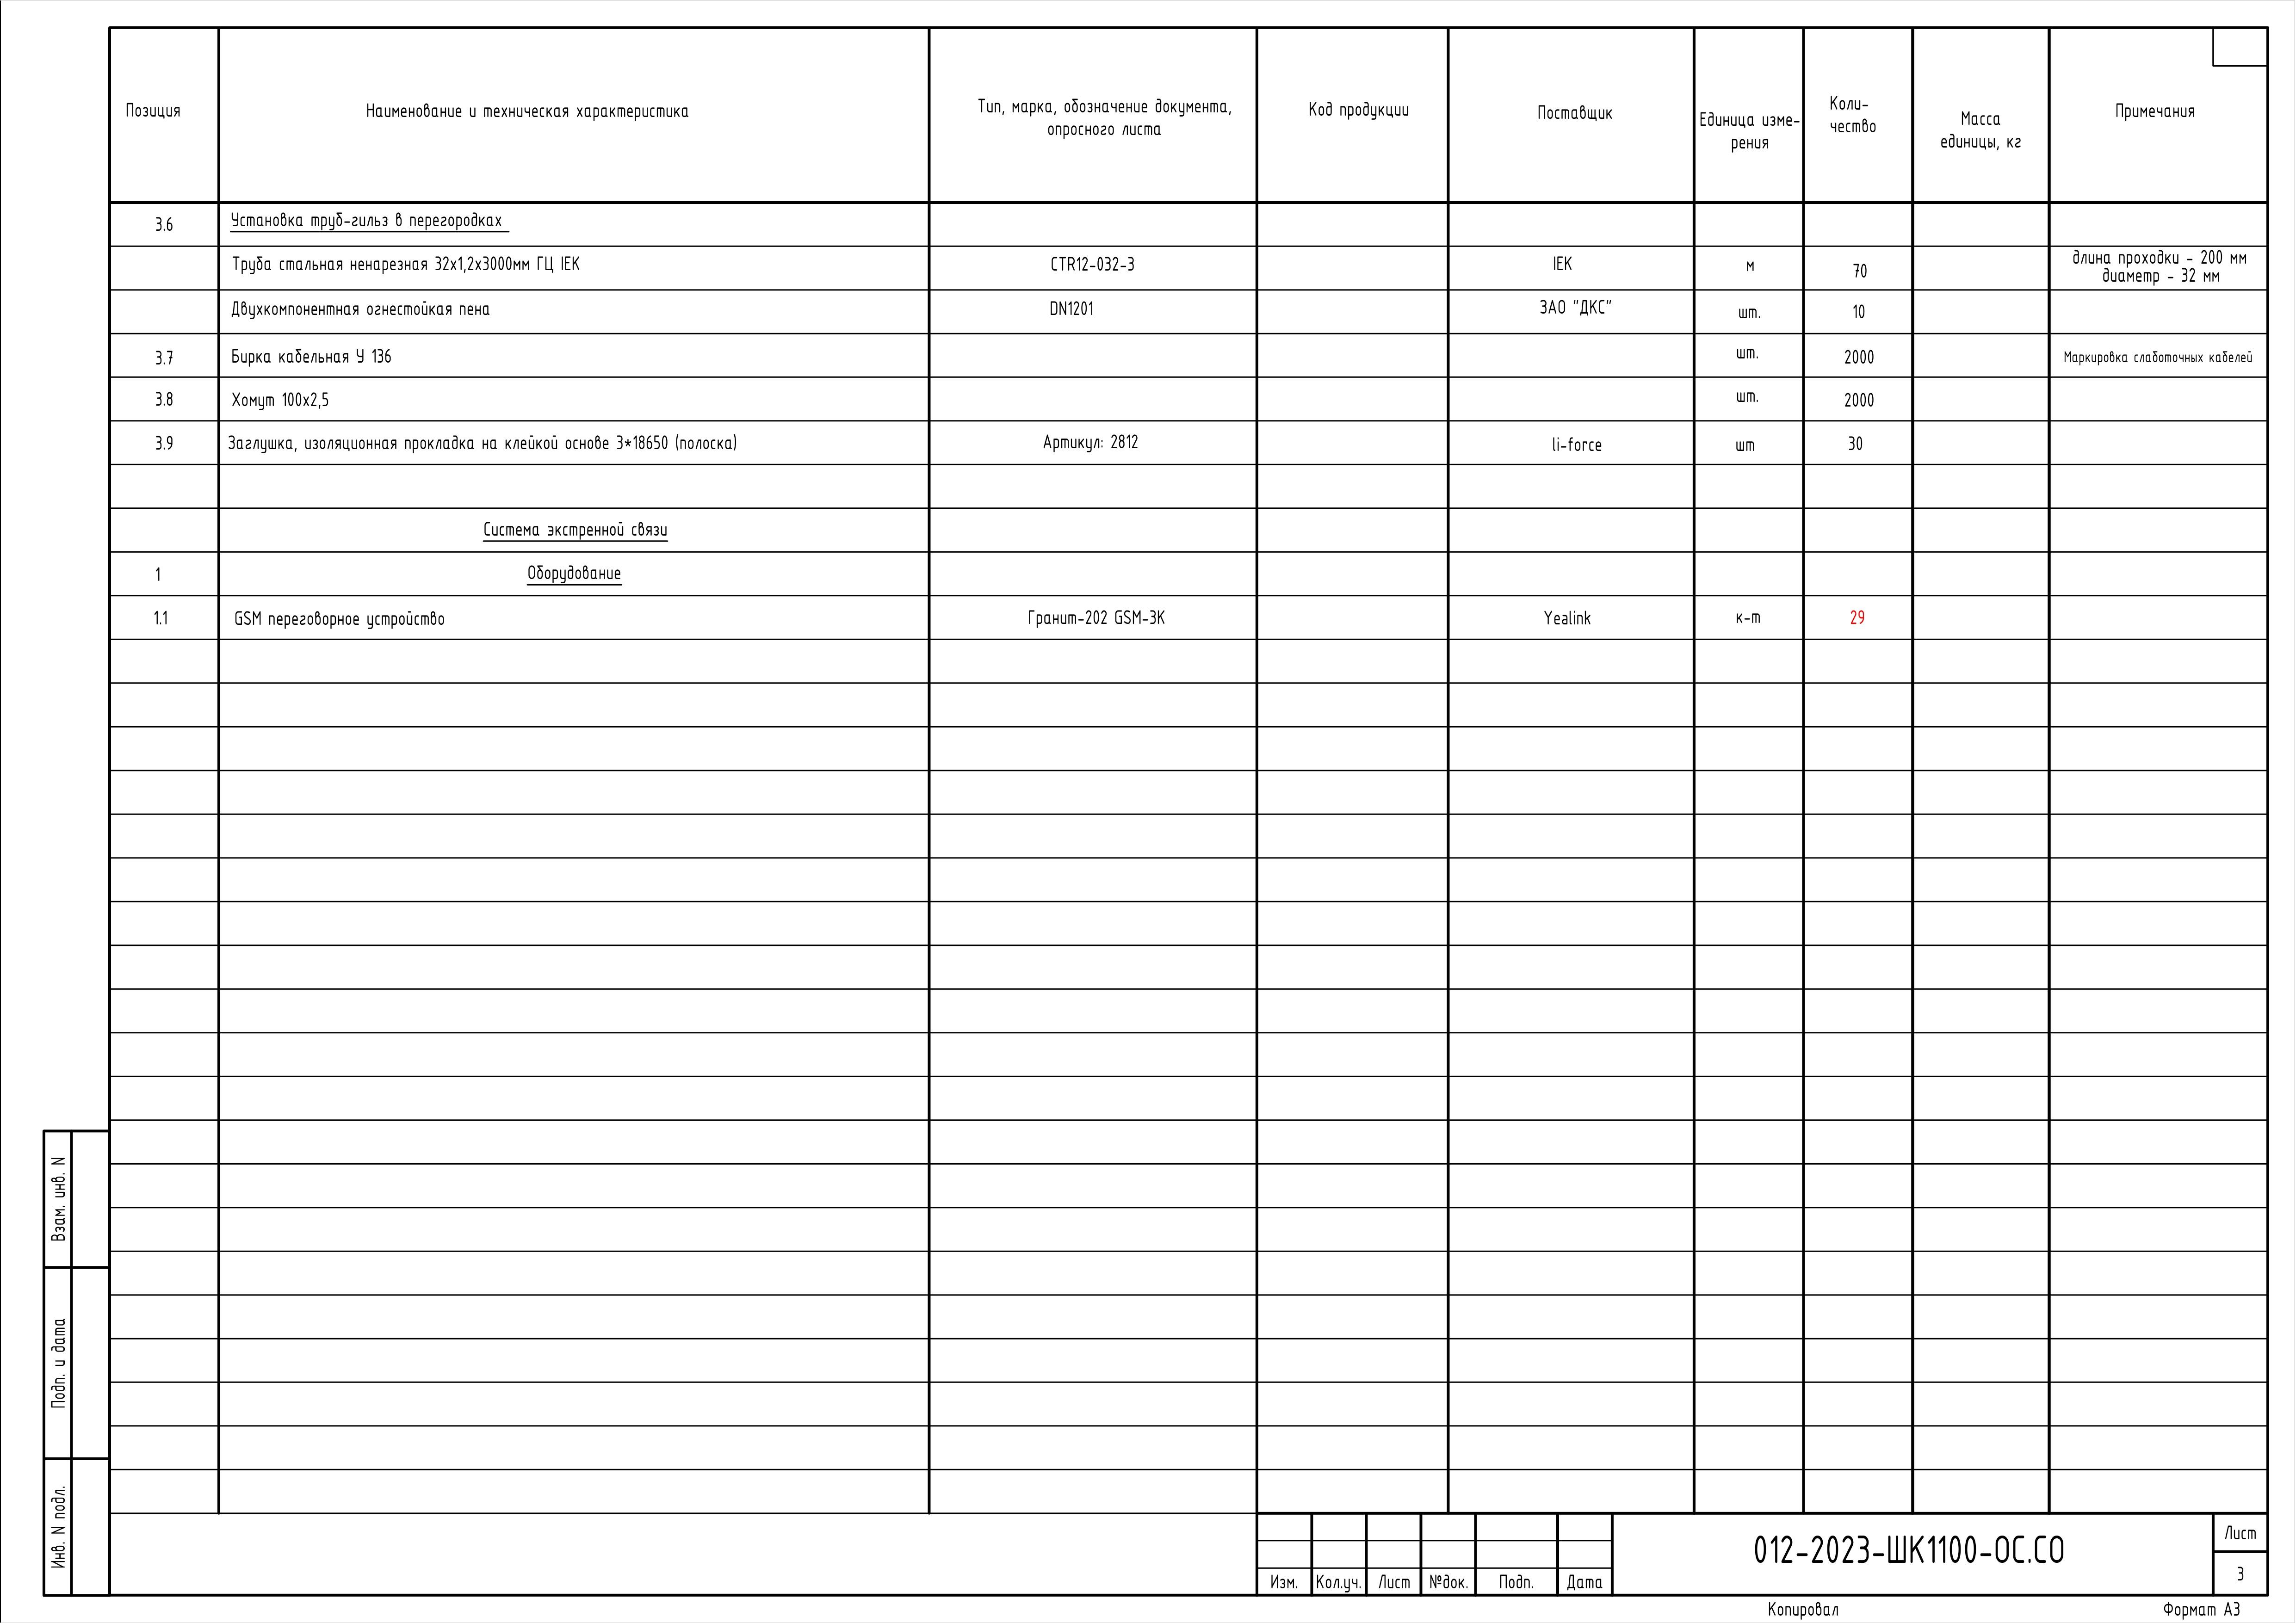Name of costs: (220, 202, 929, 1514)
Note: (931, 202, 1256, 1511)
Quantity: (1804, 204, 1913, 1512)
Unit of measurement: (1695, 200, 1804, 1514)
